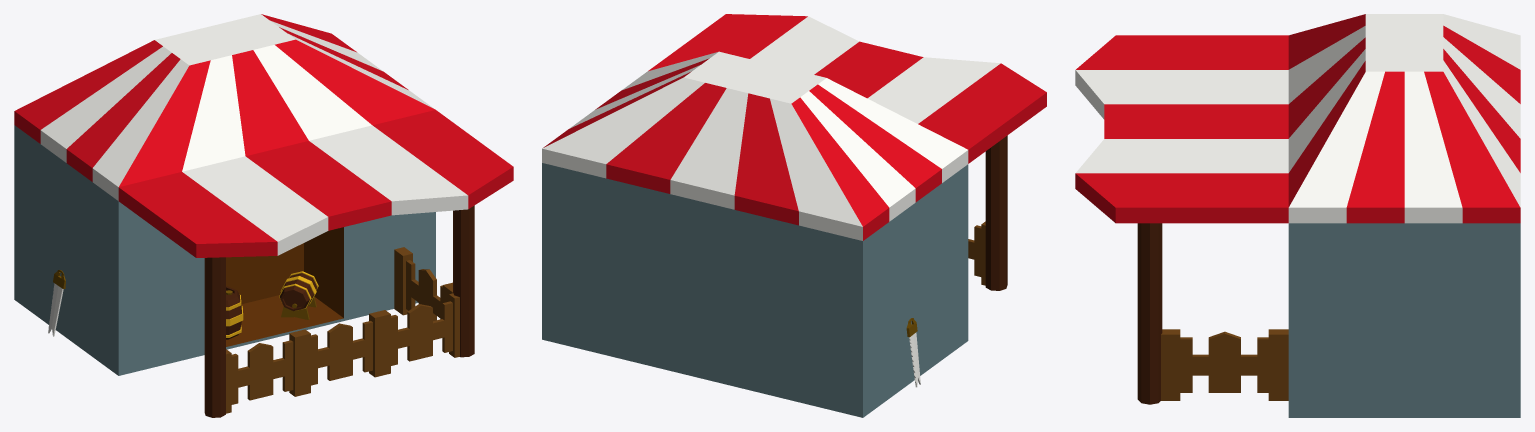
File: RedWorkshop.fbx
3 renders of one model, left to right at view 1: azimuth 30°, elevation 25°; view 2: azimuth 150°, elevation 25°; view 3: azimuth 270°, elevation 25°, orthographic. The views are drawn at different scales.
Parts seen in each view (by area): view 1: Workshop, Cube.002, Pillars, Cube.001, Cylinder.001, Cylinder, Cube.003; view 2: Workshop, Pillars, Cube.002, Cube.003; view 3: Workshop, Cube.001, Pillars.
Boxes of the visible parts, bbox=[...] form: Workshop: bbox=[14, 14, 513, 375]; Cube.002: bbox=[226, 293, 459, 413]; Pillars: bbox=[204, 205, 474, 417]; Cube.001: bbox=[394, 247, 452, 320]; Cylinder.001: bbox=[279, 271, 318, 319]; Cylinder: bbox=[226, 286, 243, 339]; Cube.003: bbox=[48, 270, 65, 336]; Workshop: bbox=[542, 14, 1046, 417]; Pillars: bbox=[985, 135, 1007, 290]; Cube.002: bbox=[968, 221, 985, 285]; Cube.003: bbox=[906, 318, 920, 387]; Workshop: bbox=[1075, 14, 1520, 417]; Cube.001: bbox=[1161, 329, 1288, 400]; Pillars: bbox=[1137, 223, 1162, 404].
Size of the model in its own units: 363 by 275 by 384.
